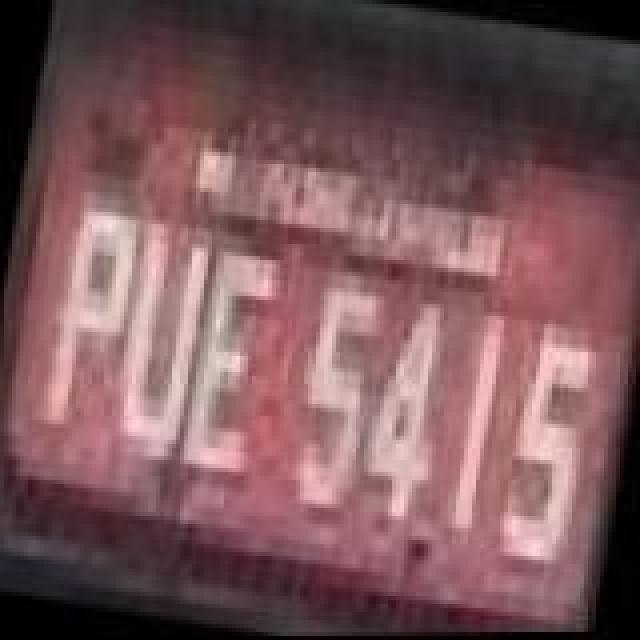1: (438, 292, 514, 540)
4: (346, 288, 462, 544)
5: (488, 304, 608, 580), (276, 266, 392, 526)
E: (176, 224, 284, 500)
P: (38, 190, 146, 446)
U: (108, 208, 220, 464)
